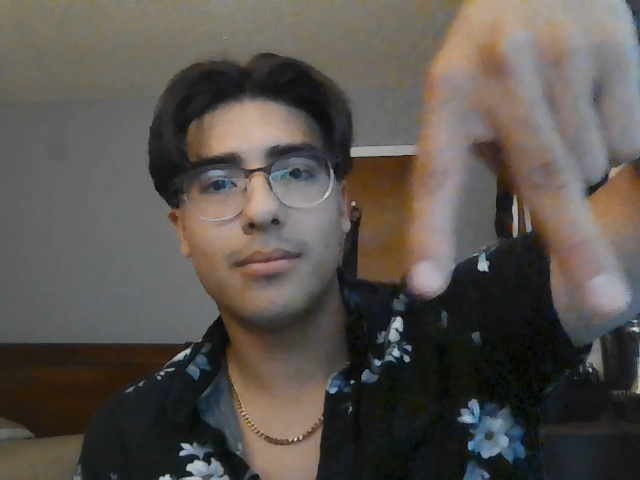Upside-down peace sign: (406, 60, 632, 316)
